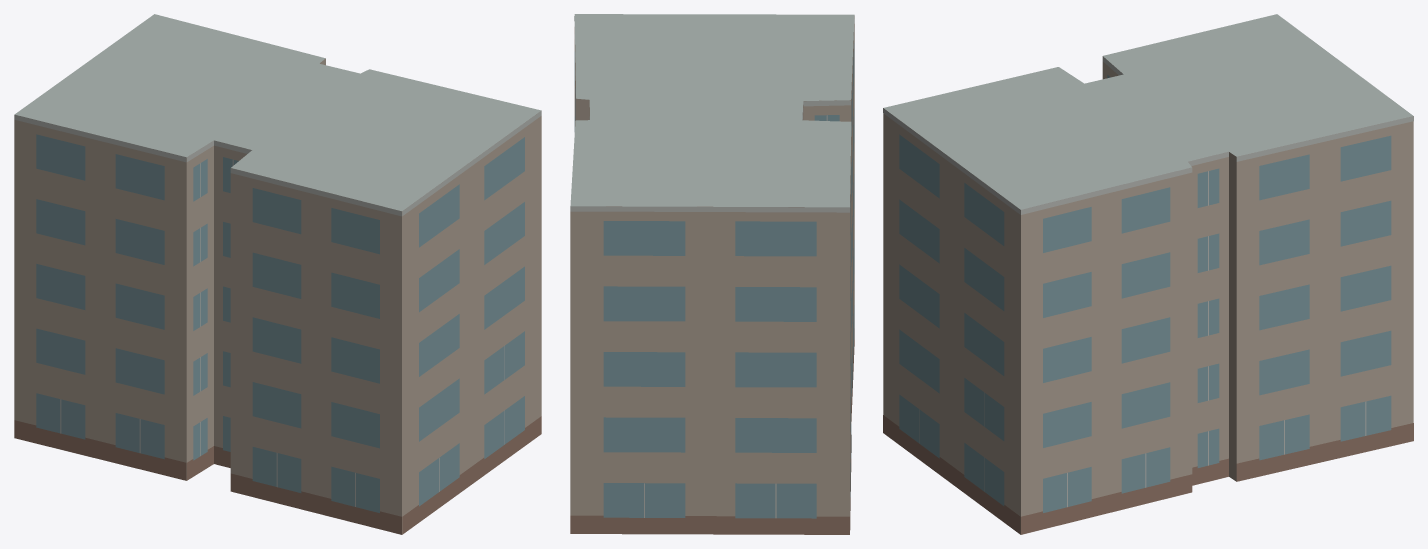
Rendered from survey-upis-32712003.glb.
The picture shows the model from 3 angles, left to right: view 1: azimuth 30°, elevation 25°; view 2: azimuth 150°, elevation 25°; view 3: azimuth 270°, elevation 25°; orthographic projection.
Parts seen in each view (by area): view 1: survey-upis-32712003.tmp; view 2: survey-upis-32712003.tmp; view 3: survey-upis-32712003.tmp.
Boxes of the visible parts, bbox=[...] form: survey-upis-32712003.tmp: bbox=[14, 14, 541, 534]; survey-upis-32712003.tmp: bbox=[570, 14, 854, 534]; survey-upis-32712003.tmp: bbox=[883, 14, 1413, 534].
Size of the model in its own units: 19.72 by 15.25 by 22.57.
